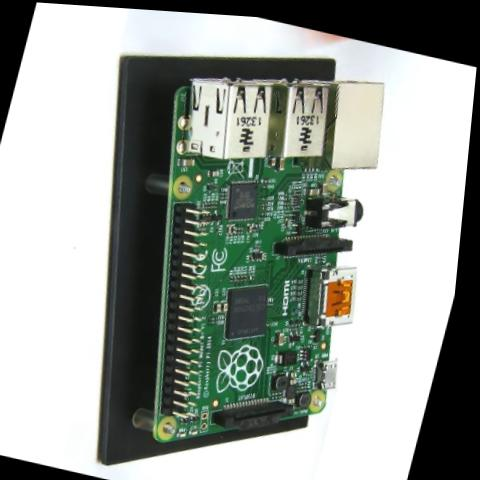Raspberry-Pi-1-Model-B-: (87, 24, 418, 480)
